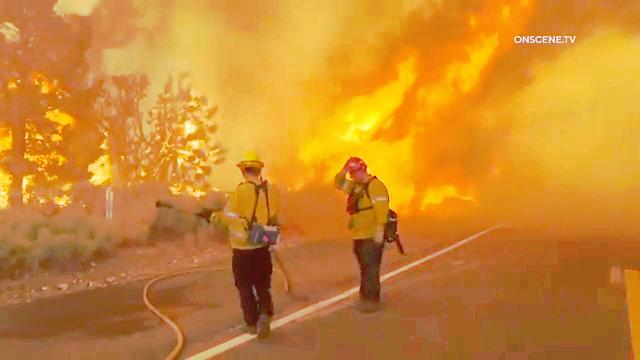fire: (146, 82, 217, 194), (315, 69, 398, 157)
smoke: (500, 82, 626, 214), (204, 4, 331, 73)
